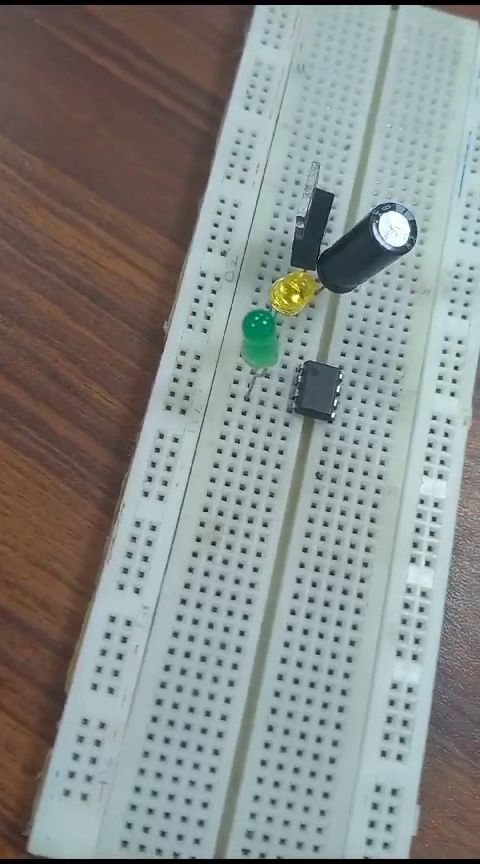IC: (296, 355, 351, 428)
LED: (239, 305, 280, 384), (266, 267, 315, 313)
capacitor: (347, 189, 414, 300)
voltage regulator: (299, 155, 335, 268)
